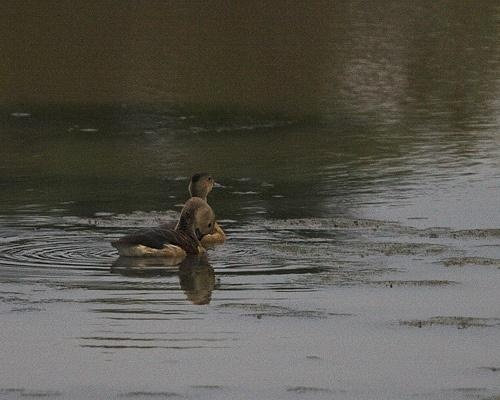bird: (111, 199, 219, 259), (186, 174, 228, 248)
